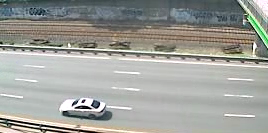car: (58, 95, 110, 121)
